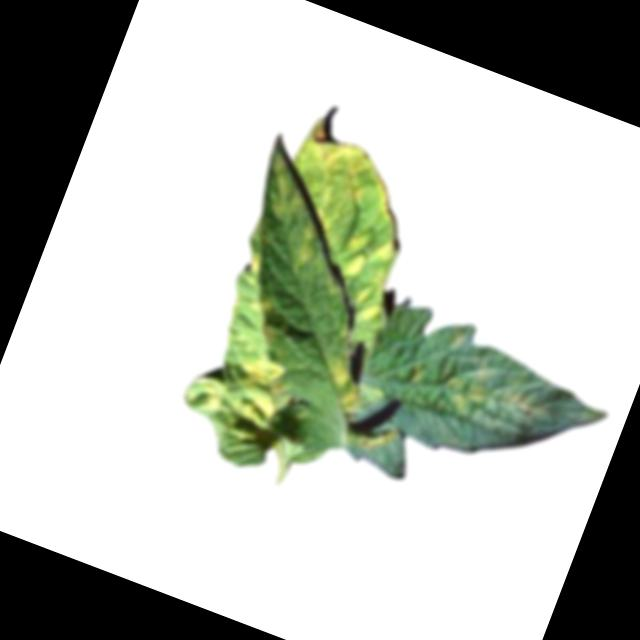Leaf_Mold: (227, 108, 436, 323), (403, 347, 554, 440), (181, 330, 304, 443), (315, 355, 378, 420)
